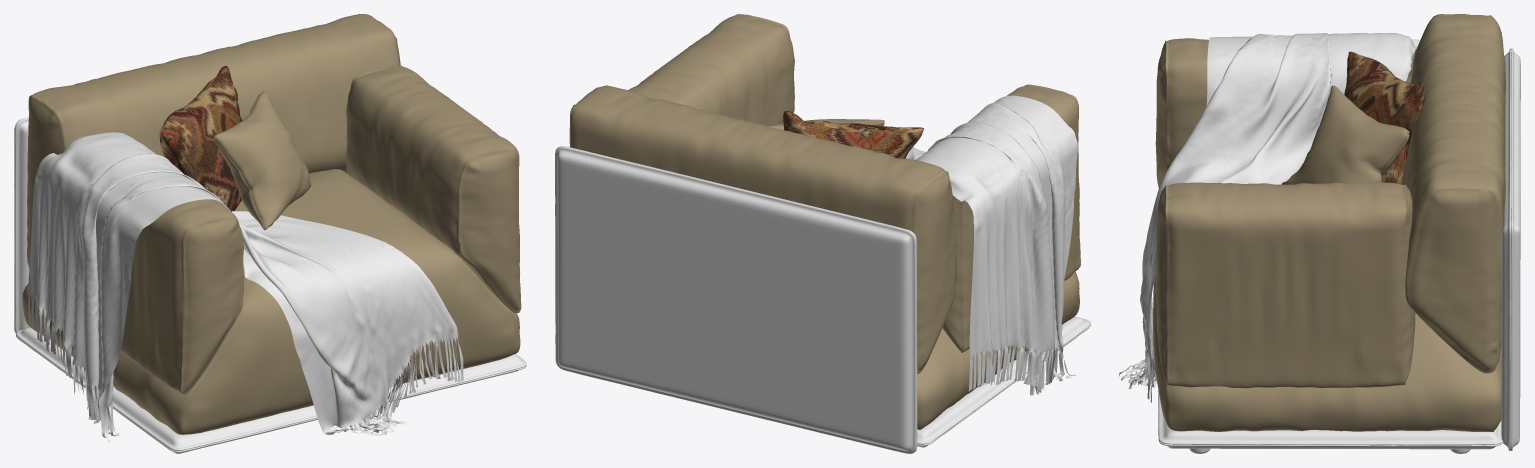
File: Armchair1.fbx
3 views of the same model, side by side, from view 1: azimuth 30°, elevation 25°; view 2: azimuth 150°, elevation 25°; view 3: azimuth 270°, elevation 25° (orthographic). The views are drawn at different scales.
Parts seen in each view (by area): view 1: throw.005, Sofa.028, Sofa.029, Sofa.027, cushion.019, Sofa.019, cushion.020, Sofa.023; view 2: Sofa.023, Sofa.027, throw.005, Sofa.028, Sofa.029, cushion.020, Sofa.019; view 3: Sofa.028, Sofa.027, throw.005, Sofa.029, Sofa.023, Sofa.019, cushion.019, cushion.020.
Part boxes in pixels (x1,y1,x2,y2): throw.005: (28,132,463,442); Sofa.028: (120,65,521,394); Sofa.029: (22,169,520,434); Sofa.027: (27,14,400,268); cushion.019: (214,91,311,230); Sofa.019: (16,327,526,453); cushion.020: (159,65,242,211); Sofa.023: (14,117,30,333); Sofa.023: (555,146,917,453); Sofa.027: (569,85,956,373); throw.005: (905,95,1077,395); Sofa.028: (628,14,1080,352); Sofa.029: (917,271,1079,429); cushion.020: (783,111,923,158); Sofa.019: (917,316,1090,447); Sofa.028: (1155,38,1415,388); Sofa.027: (1401,14,1505,373); throw.005: (1119,33,1419,402); Sofa.029: (1153,190,1501,431); Sofa.023: (1501,48,1520,450); Sofa.019: (1158,390,1502,453); cushion.019: (1281,85,1409,184); cushion.020: (1344,51,1425,184).
Size of the model in its own units: 110 by 74.52 by 95.09.
6 materials, 1 textured.
